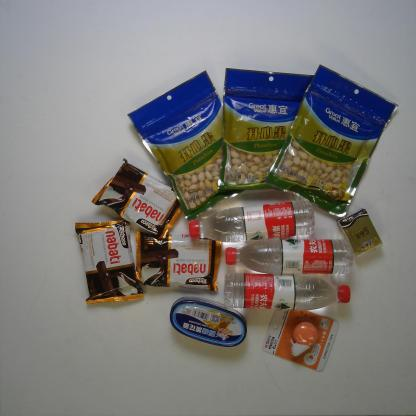Canned Food: (168, 295, 250, 350)
Dessert: (90, 157, 184, 241), (72, 217, 145, 306), (132, 230, 222, 293)
Dried Fruit: (262, 62, 401, 220), (125, 68, 248, 225), (216, 66, 316, 198)
Drink: (186, 197, 318, 244), (222, 271, 352, 312), (224, 237, 356, 277)
Stationery: (260, 308, 342, 374)
Tissue: (334, 206, 385, 258)
